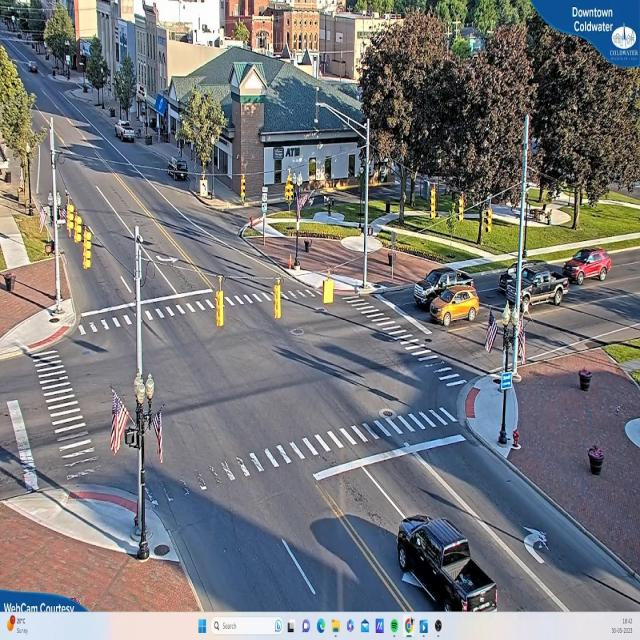car: (398, 517, 496, 611), (429, 278, 482, 332), (503, 267, 564, 304), (412, 265, 453, 308), (567, 248, 612, 284), (116, 121, 136, 142)
